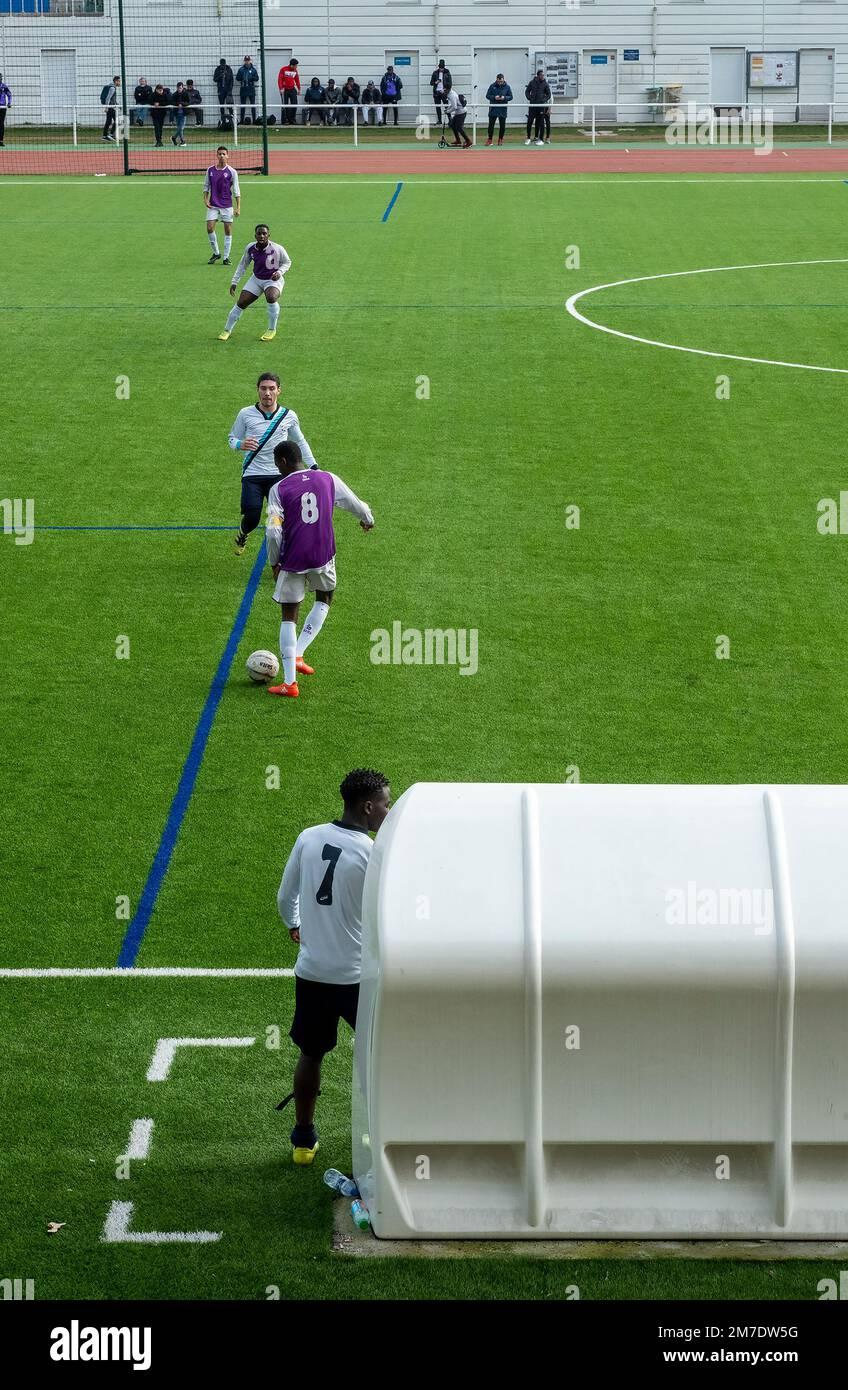ballon_football: (246, 648, 280, 688)
